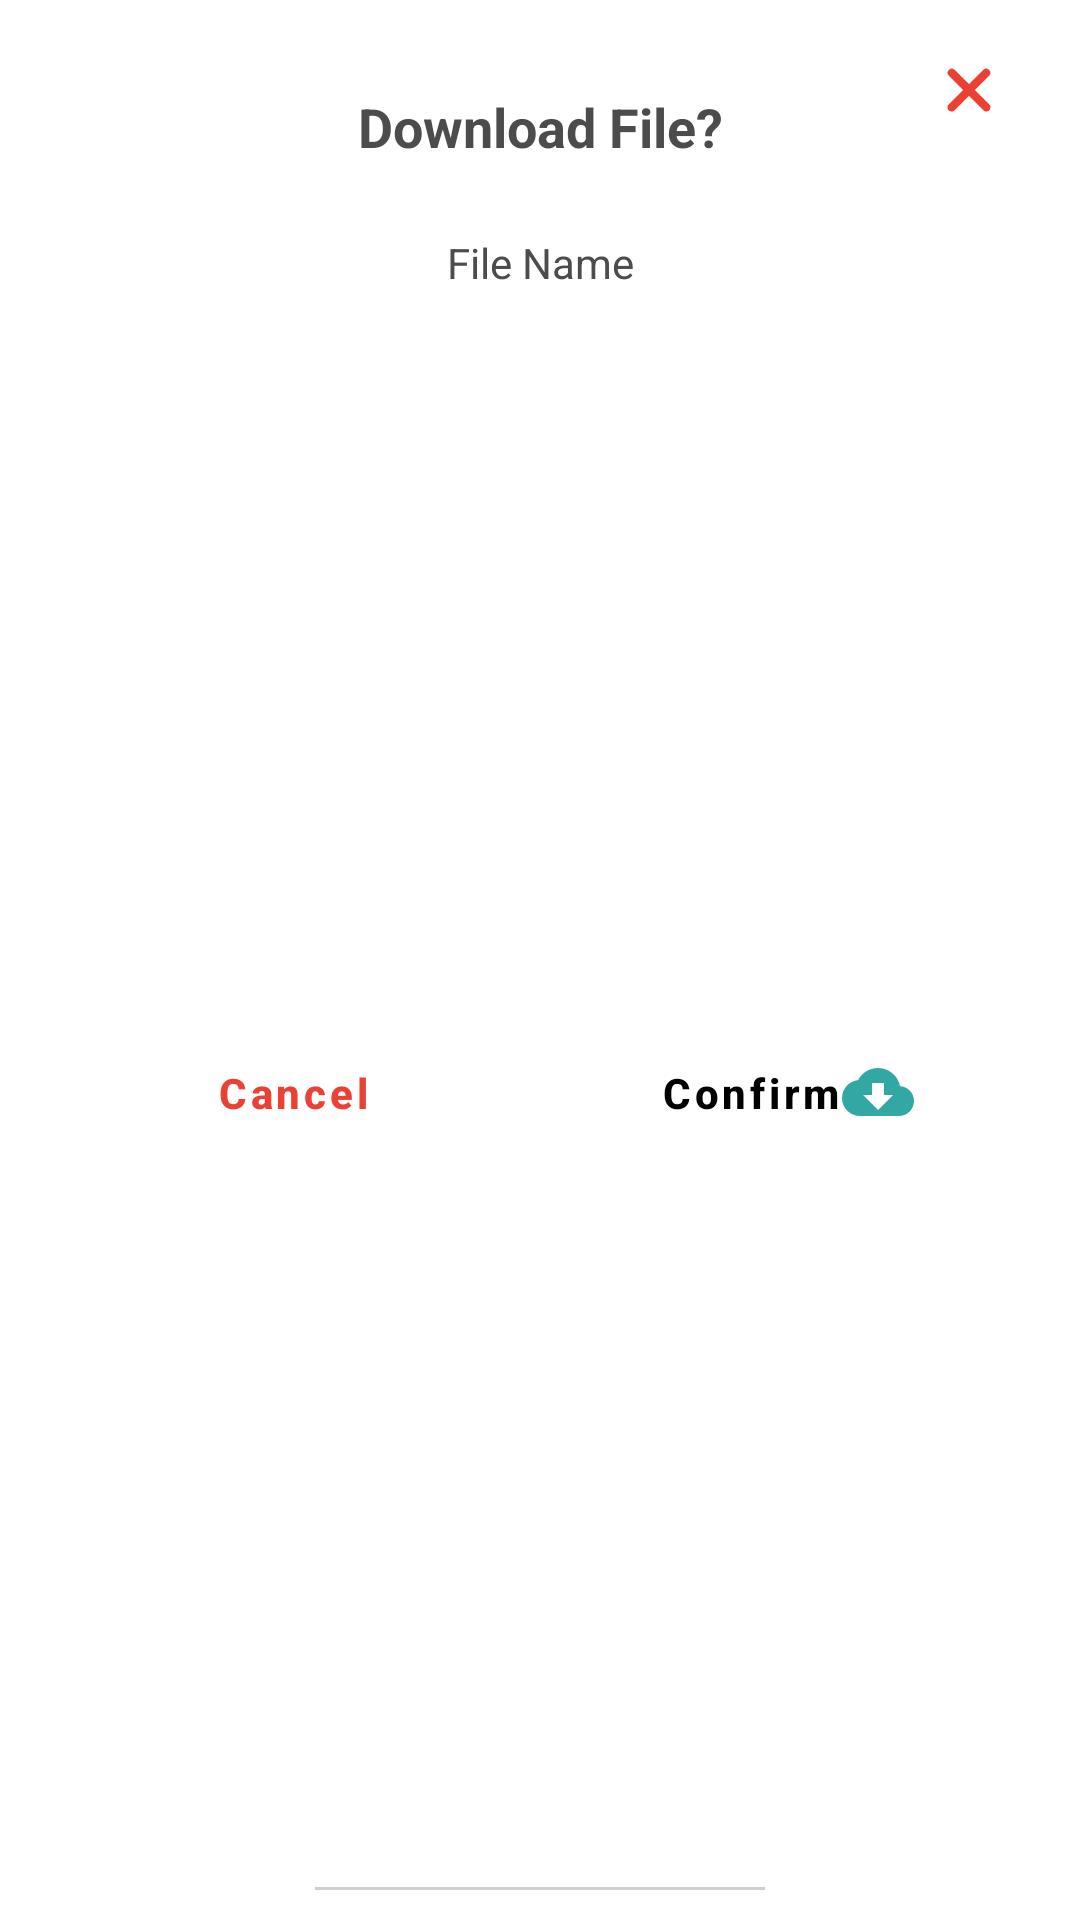

Screen size 1080*1920. Icon name, then its center in pixels as point (x, y):
close: point (969, 90)
